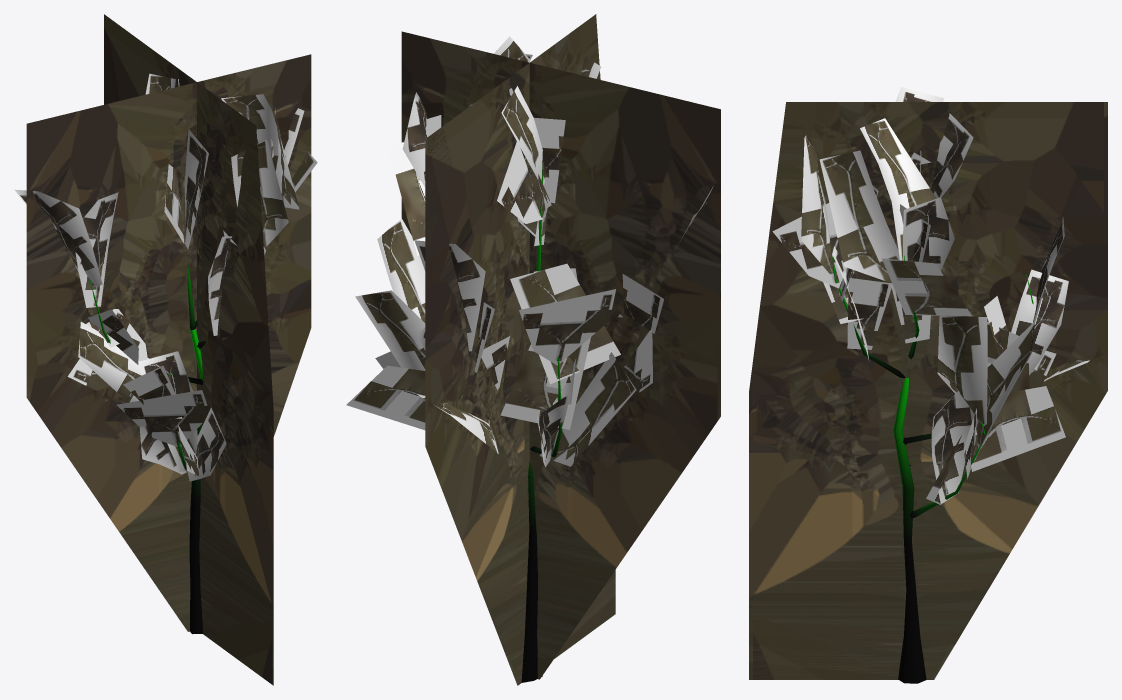
Rendered from RTree2_small.fbx.
3 views of the same model, side by side, from view 1: azimuth 30°, elevation 25°; view 2: azimuth 150°, elevation 25°; view 3: azimuth 270°, elevation 25° (orthographic). The views are drawn at different scales.
Visible parts, largest first — view 1: Billboard, LOD0; view 2: Billboard, LOD0; view 3: Billboard, LOD0.
Part boxes in pixels (box(x1,y1,x2,y2)): Billboard: box(26, 14, 311, 685); LOD0: box(14, 73, 317, 634); Billboard: box(401, 14, 720, 685); LOD0: box(346, 36, 713, 682); Billboard: box(749, 102, 1107, 679); LOD0: box(772, 87, 1092, 683).
Size of what is drawn, in the model's own units: 141 by 259 by 145.
